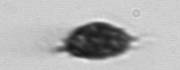plankton: (48, 17, 148, 62)
